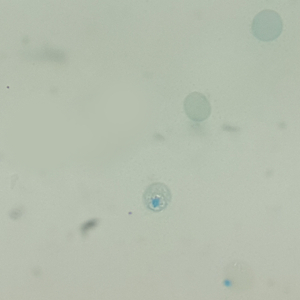erythrocyte: (250, 8, 284, 43), (140, 181, 172, 213), (182, 91, 213, 123)
